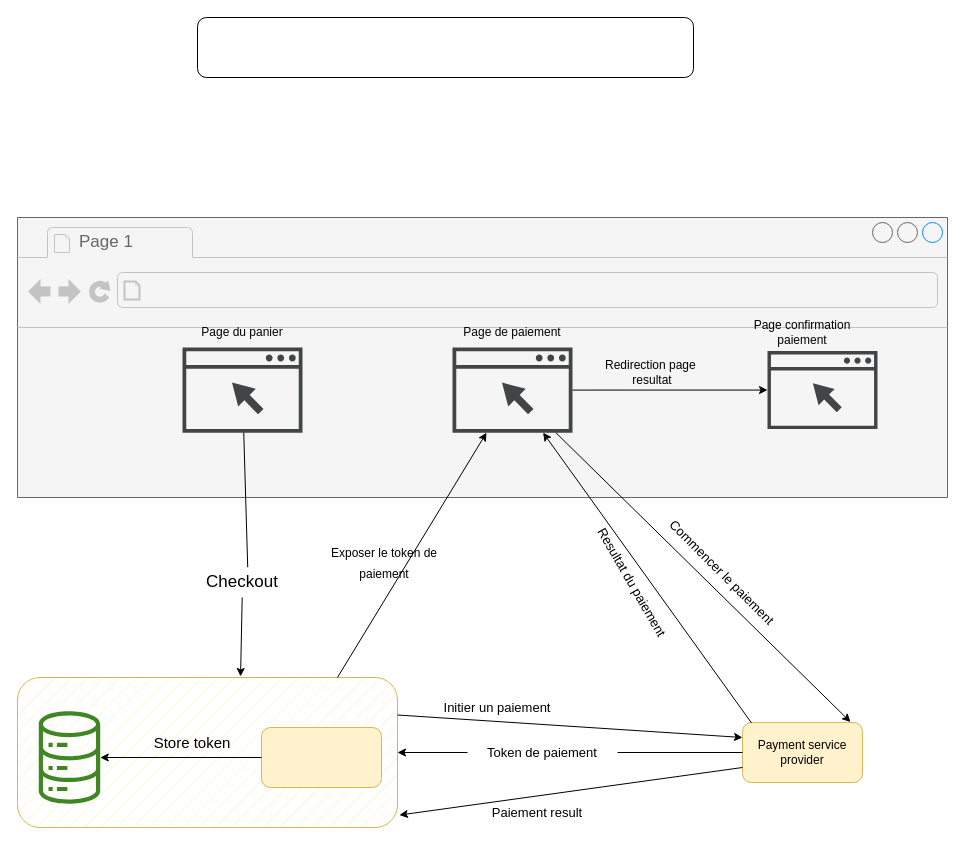
Some shapes in this 965 by 845 pixel diagram are drawn without their labels. Here are the shapes that lost their labels. From the top down, the box of each, then its label:
(196, 16, 694, 78): MINIMUN PAIEMENT SERVICE
(260, 726, 382, 788): Service de paiement
